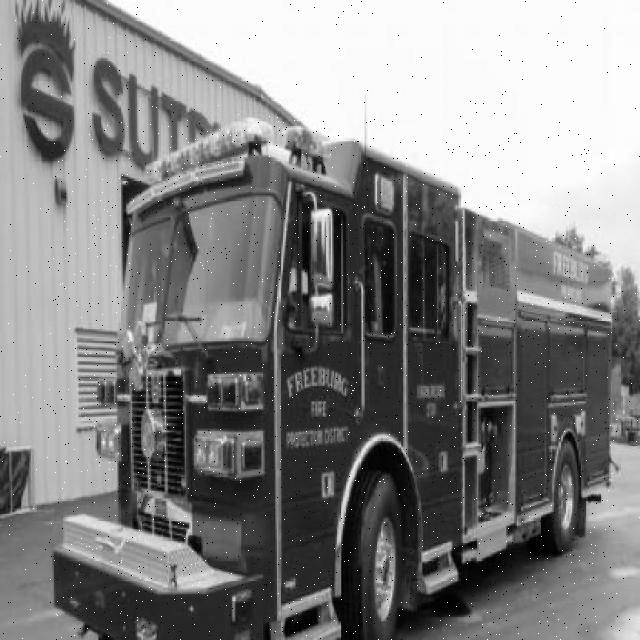Fire Truck: (47, 120, 615, 640)
